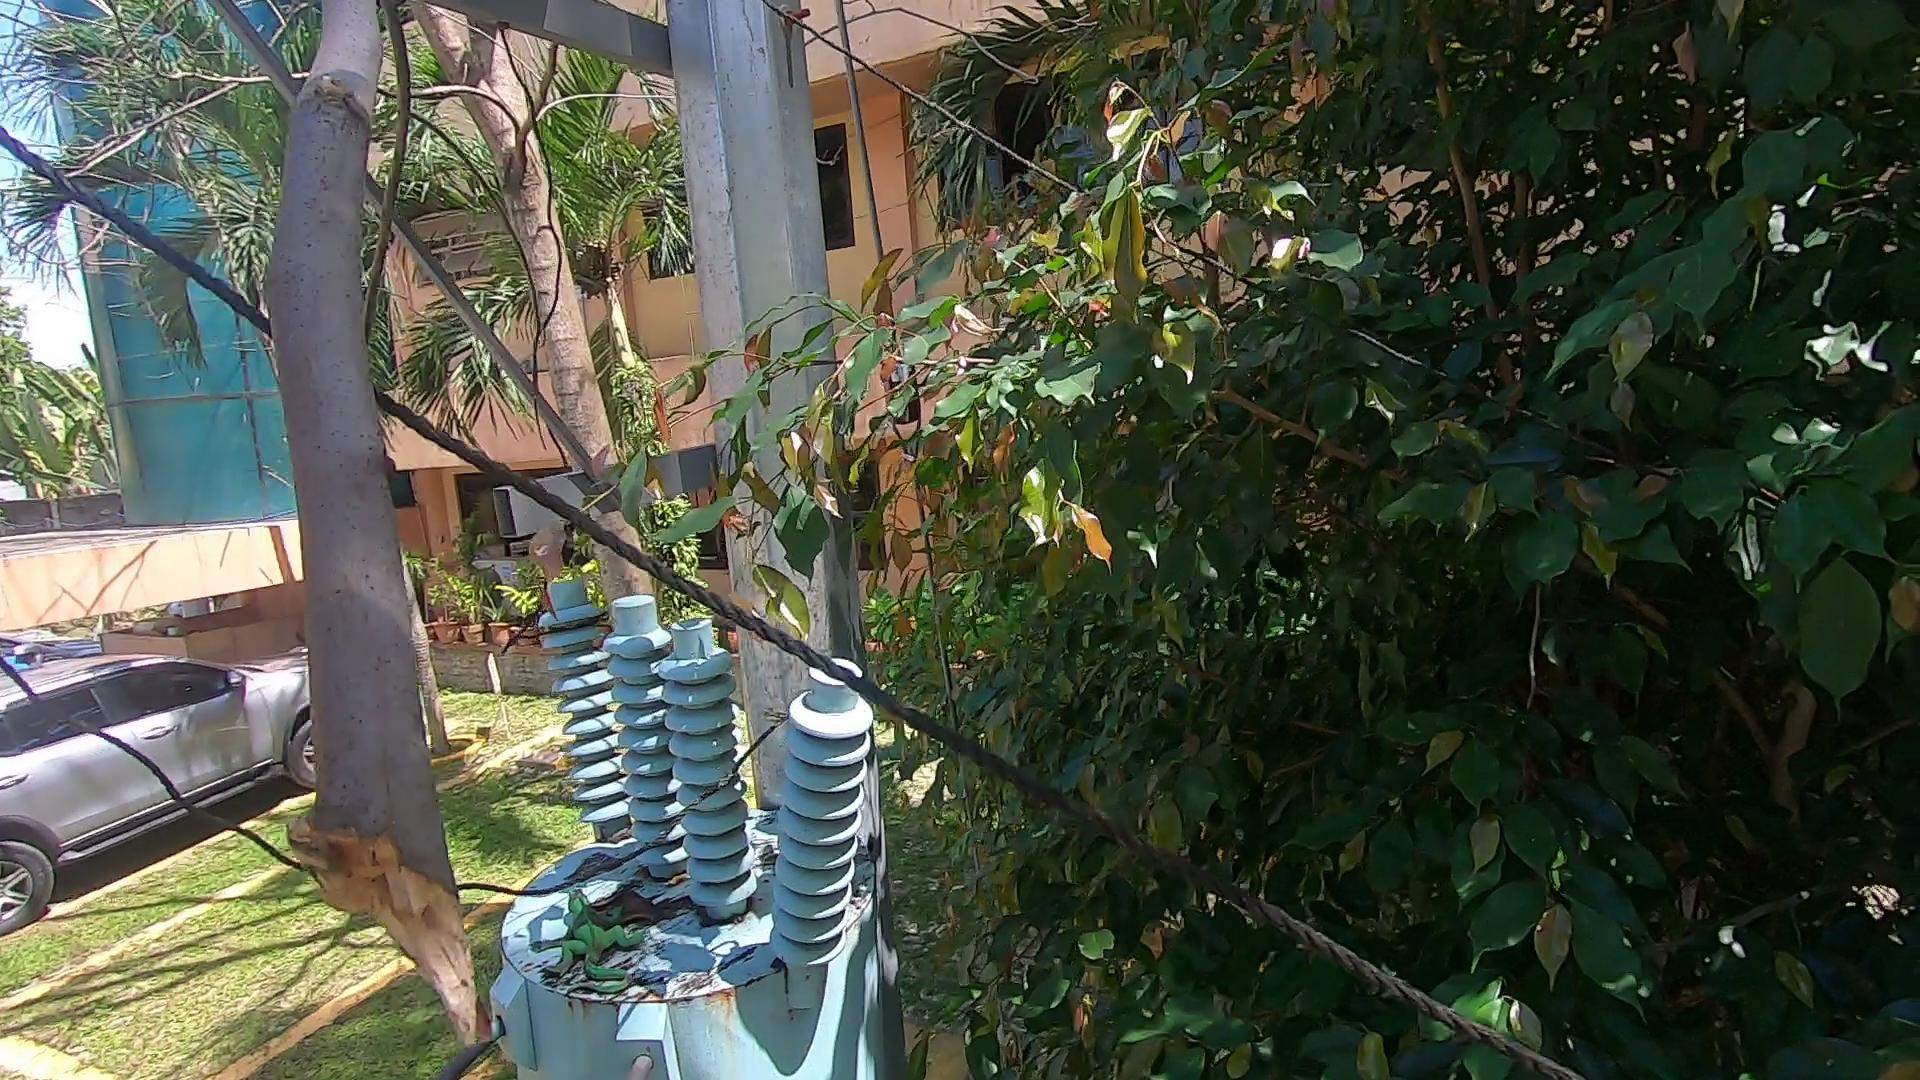branch with leaves: (554, 336, 884, 645)
leaf: (582, 862, 698, 934), (591, 811, 636, 847)
tree branch: (196, 11, 587, 1015)
